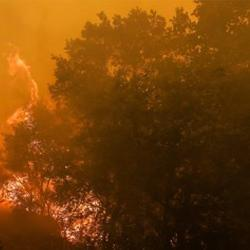fire: (4, 178, 48, 204), (53, 208, 93, 232), (13, 108, 34, 124)
